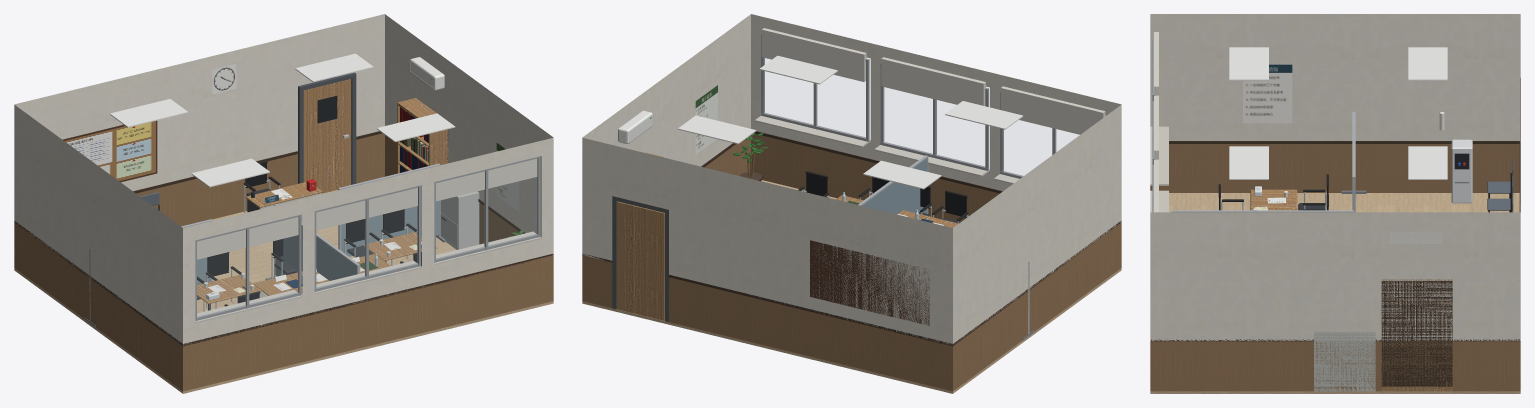
File: wancai_semb.glb
3 renders of one model, left to right at view 1: azimuth 30°, elevation 25°; view 2: azimuth 150°, elevation 25°; view 3: azimuth 270°, elevation 25°, orthographic. The views are drawn at different scales.
Visible parts, largest first — view 1: WALL_N_wall, WALL_S_glass, WALL_W_wall, WALL_S_wall, WALL_S_wain, WALL_S_frame, WALL_E_wall, WALL_W_wain, wancai_semb_props, WALL_N_wain, WALL_N_door, wancai_semb_floorm (+17 smaller); view 2: WALL_N_wall, WALL_W_wall, WALL_N_wain, WALL_S_frame, WALL_S_glass, WALL_E_wall, WALL_S_wall, WALL_N_trim, WALL_W_wain, WALL_S_wain, wancai_semb_props, WALL_N_door (+10 smaller); view 3: WALL_E_wall, WALL_W_wall, WALL_E_wain, WALL_W_wain, wancai_semb_props, WALL_E_books, wancai_semb_floorm, WALL_E_cabinet, WALL_W_print, WALL_S_frame, wancai_semb_consult_metal, WALL_E_trim (+4 smaller).
Part boxes in pixels (box(x1,y1,x2,y2)): WALL_N_wall: box(14, 14, 384, 191); WALL_S_glass: box(197, 159, 536, 316); WALL_W_wall: box(14, 105, 182, 344); WALL_S_wall: box(183, 137, 553, 345); WALL_S_wain: box(183, 255, 553, 391); WALL_S_frame: box(195, 156, 541, 323); WALL_E_wall: box(385, 14, 553, 237); WALL_W_wain: box(14, 222, 182, 390); wancai_semb_props: box(110, 53, 523, 237); WALL_N_wain: box(136, 133, 384, 226); WALL_N_door: box(303, 79, 351, 193); wancai_semb_floorm: box(14, 190, 553, 393); WALL_N_wall: box(582, 137, 952, 344); WALL_W_wall: box(953, 105, 1121, 343); WALL_N_wain: box(582, 255, 952, 391); WALL_S_frame: box(755, 28, 1105, 184); WALL_S_glass: box(765, 59, 1078, 175); WALL_E_wall: box(582, 14, 750, 166); WALL_S_wall: box(751, 14, 1121, 191); WALL_N_trim: box(583, 196, 953, 346); WALL_W_wain: box(953, 222, 1121, 390); WALL_S_wain: box(751, 134, 999, 221); wancai_semb_props: box(678, 55, 1023, 189); WALL_N_door: box(617, 201, 664, 320); WALL_E_wall: box(1150, 212, 1520, 340); WALL_W_wall: box(1150, 14, 1520, 140); WALL_E_wain: box(1150, 341, 1520, 391); WALL_W_wain: box(1151, 144, 1519, 192); wancai_semb_props: box(1229, 47, 1513, 212); WALL_E_books: box(1381, 281, 1452, 386); wancai_semb_floorm: box(1150, 193, 1520, 393); WALL_E_cabinet: box(1314, 332, 1375, 391); WALL_W_print: box(1243, 64, 1292, 123); WALL_S_frame: box(1150, 32, 1168, 212); wancai_semb_consult_metal: box(1171, 112, 1366, 212); WALL_E_trim: box(1151, 231, 1519, 341).
Bounding box in the file's own units: 7.61 × 3.25 × 6.
Materials: 15 (8 with a texture image).
